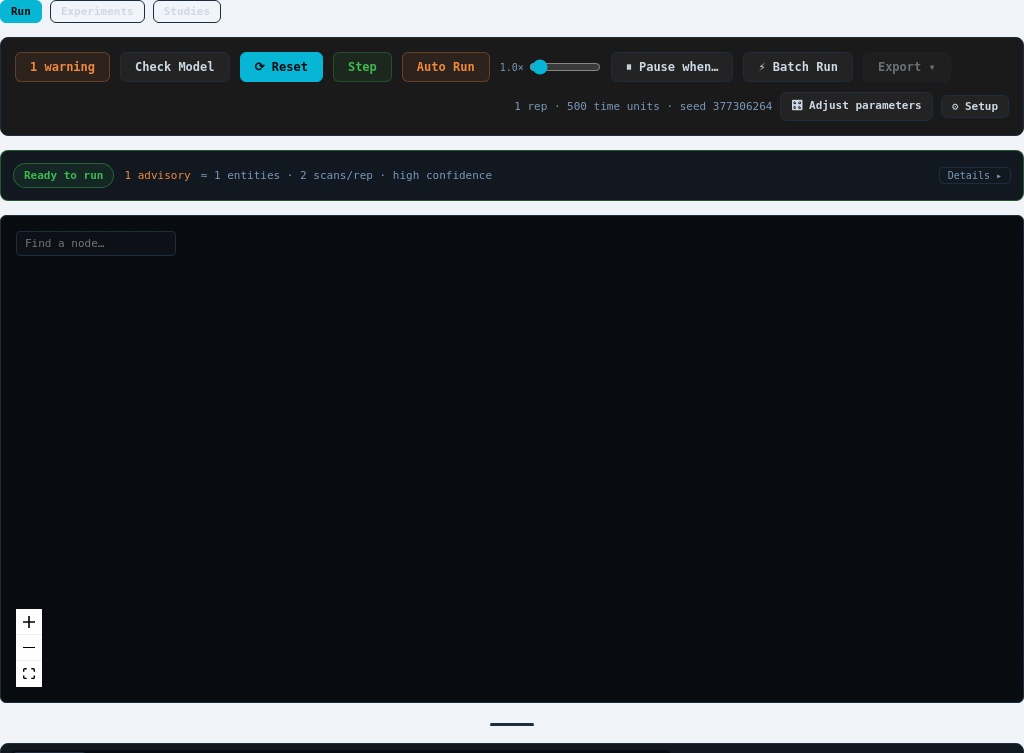
ExecutePanel — Run tab ad-hoc parameter adjustment › 'Reset all' clears the override and its badge
Click the button "🎛 Adjust parameters" at (856, 106), box [780,92,933,121]
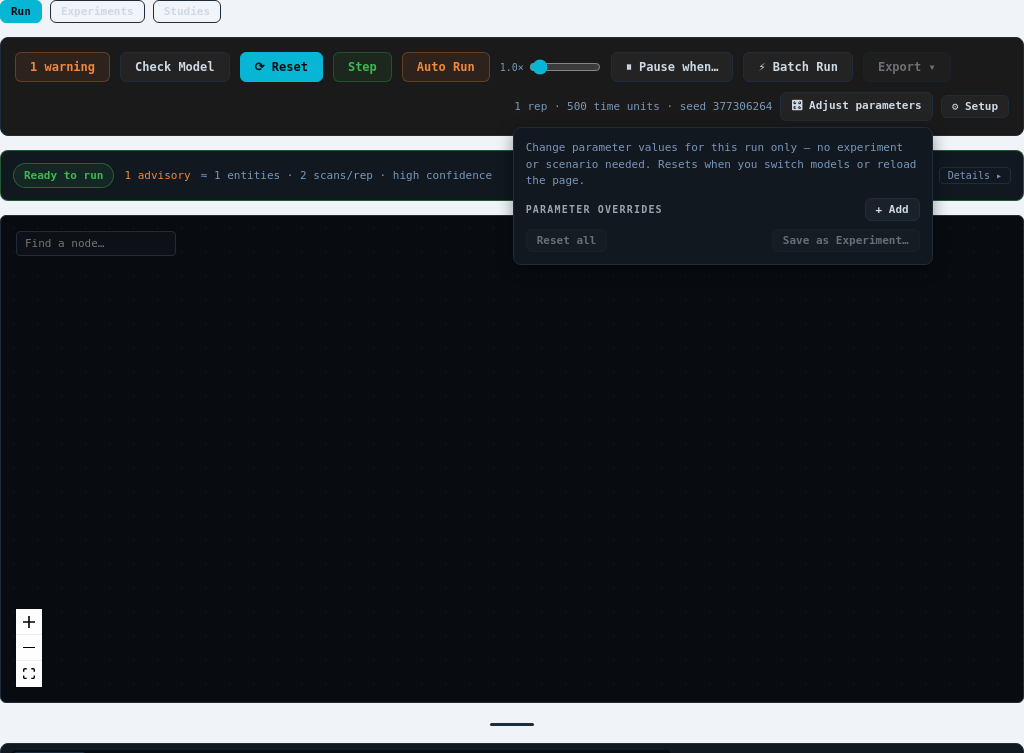
Click the button "+ Add" at (892, 209), box [864,198,920,220]
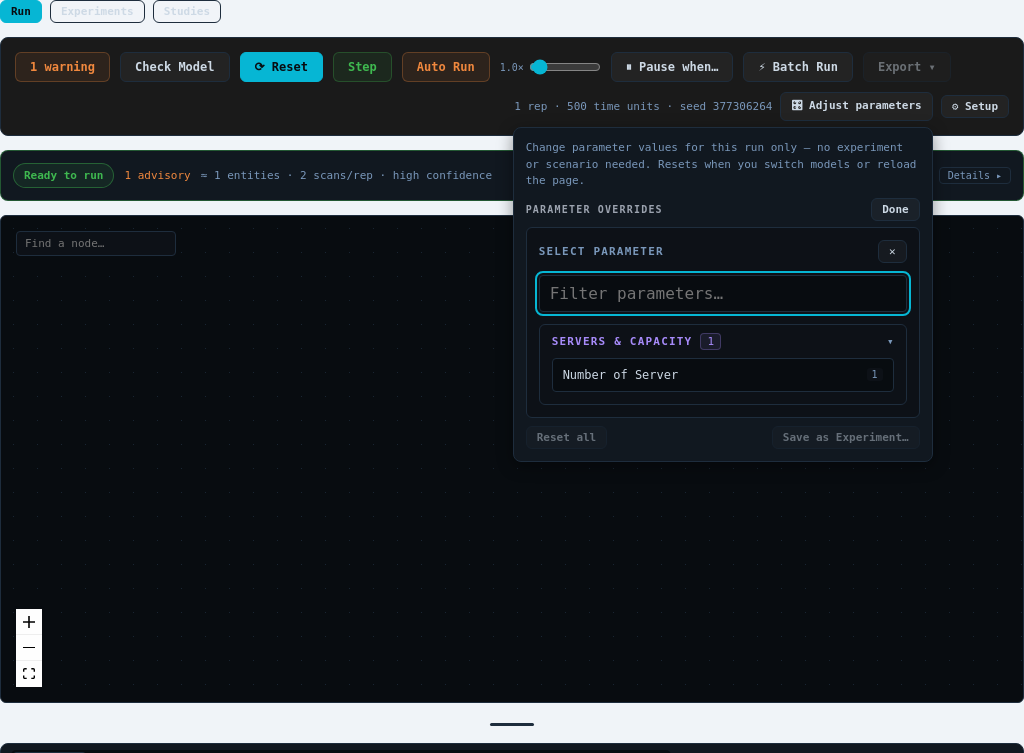
Click the button "Number of Server 1" at (620, 374), box [552,358,894,392]
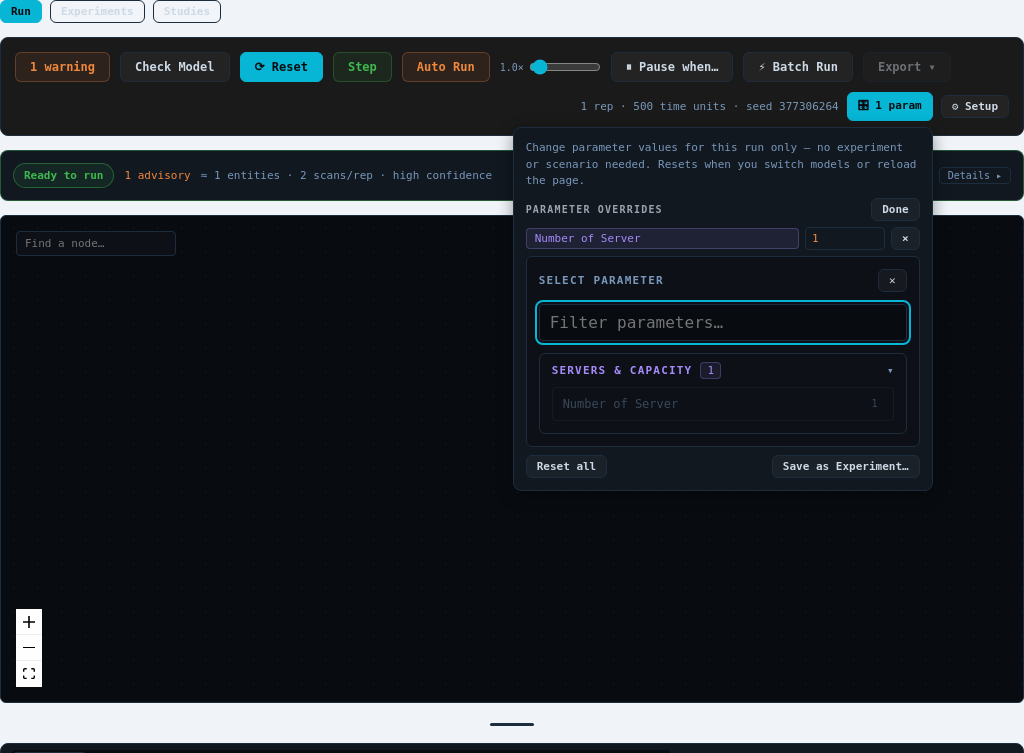
Expected: the button "🎛 1 param" is shown, [847,92,933,121]
Click the button "Reset all" at (566, 466), box [526,454,607,478]
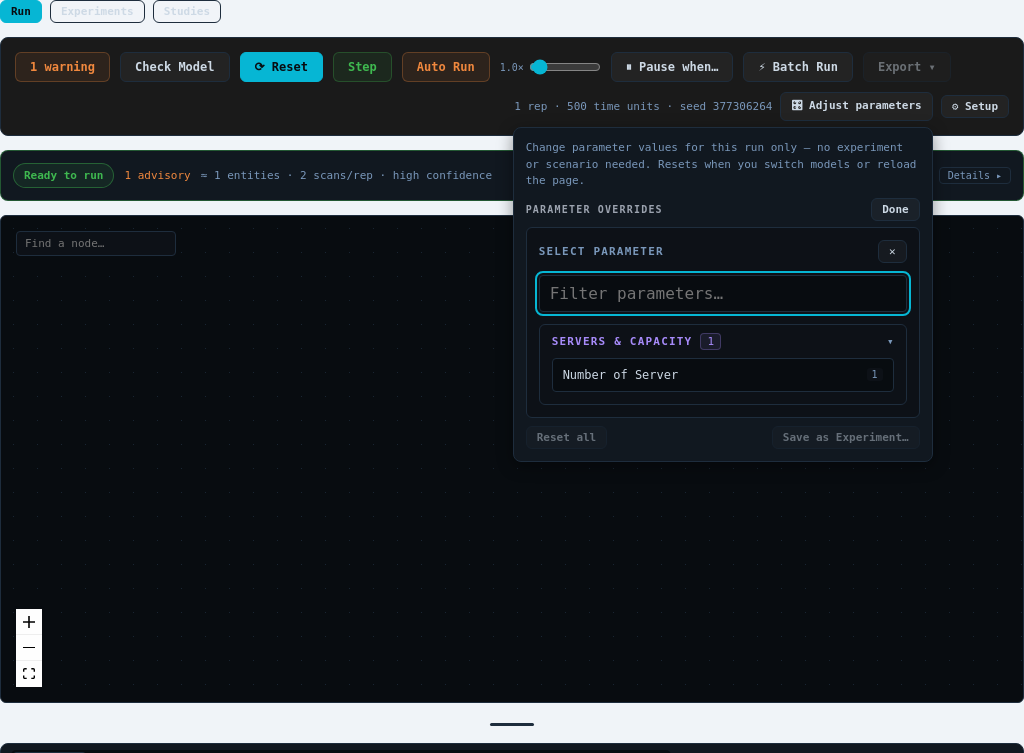
Expected: the button "🎛 Adjust parameters" is shown, [780,92,933,121]
